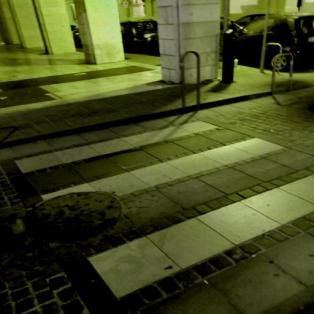Paso de Cebra: (11, 118, 294, 220)
